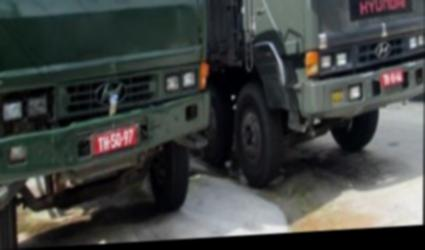License_Plate: (88, 125, 139, 158), (380, 67, 404, 89)
